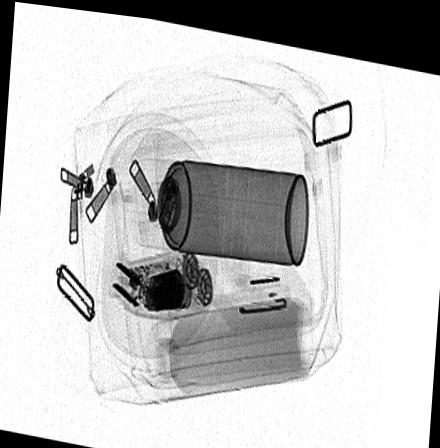Sprayer: (129, 151, 310, 257)
